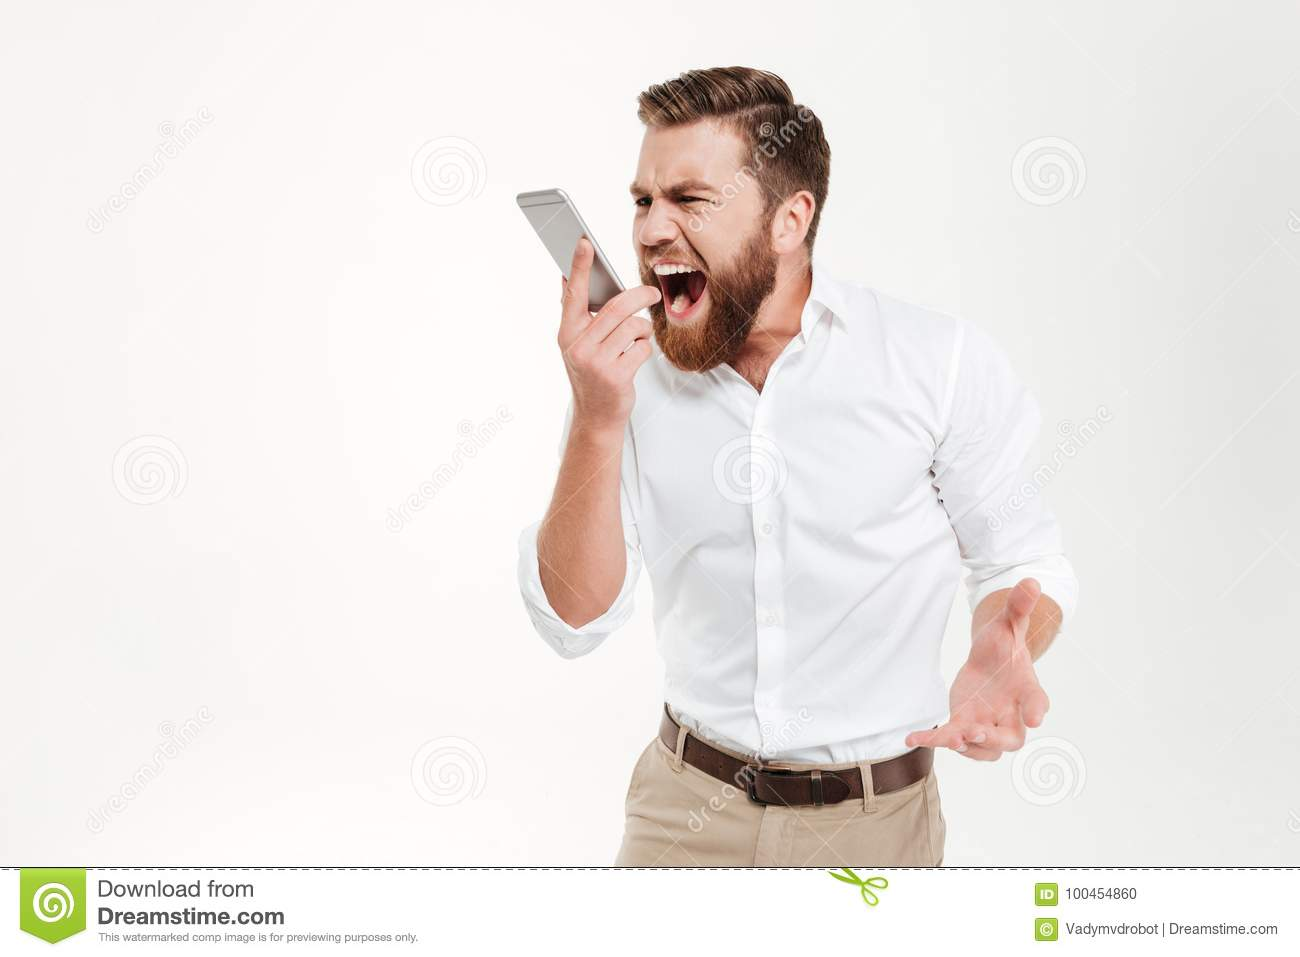phone: (495, 177, 617, 323)
